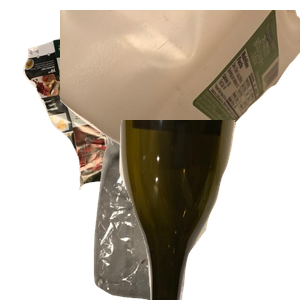glass: (117, 120, 300, 300)
paper: (20, 10, 231, 190)
plastic: (60, 10, 300, 160)
trash: (70, 120, 256, 300)
